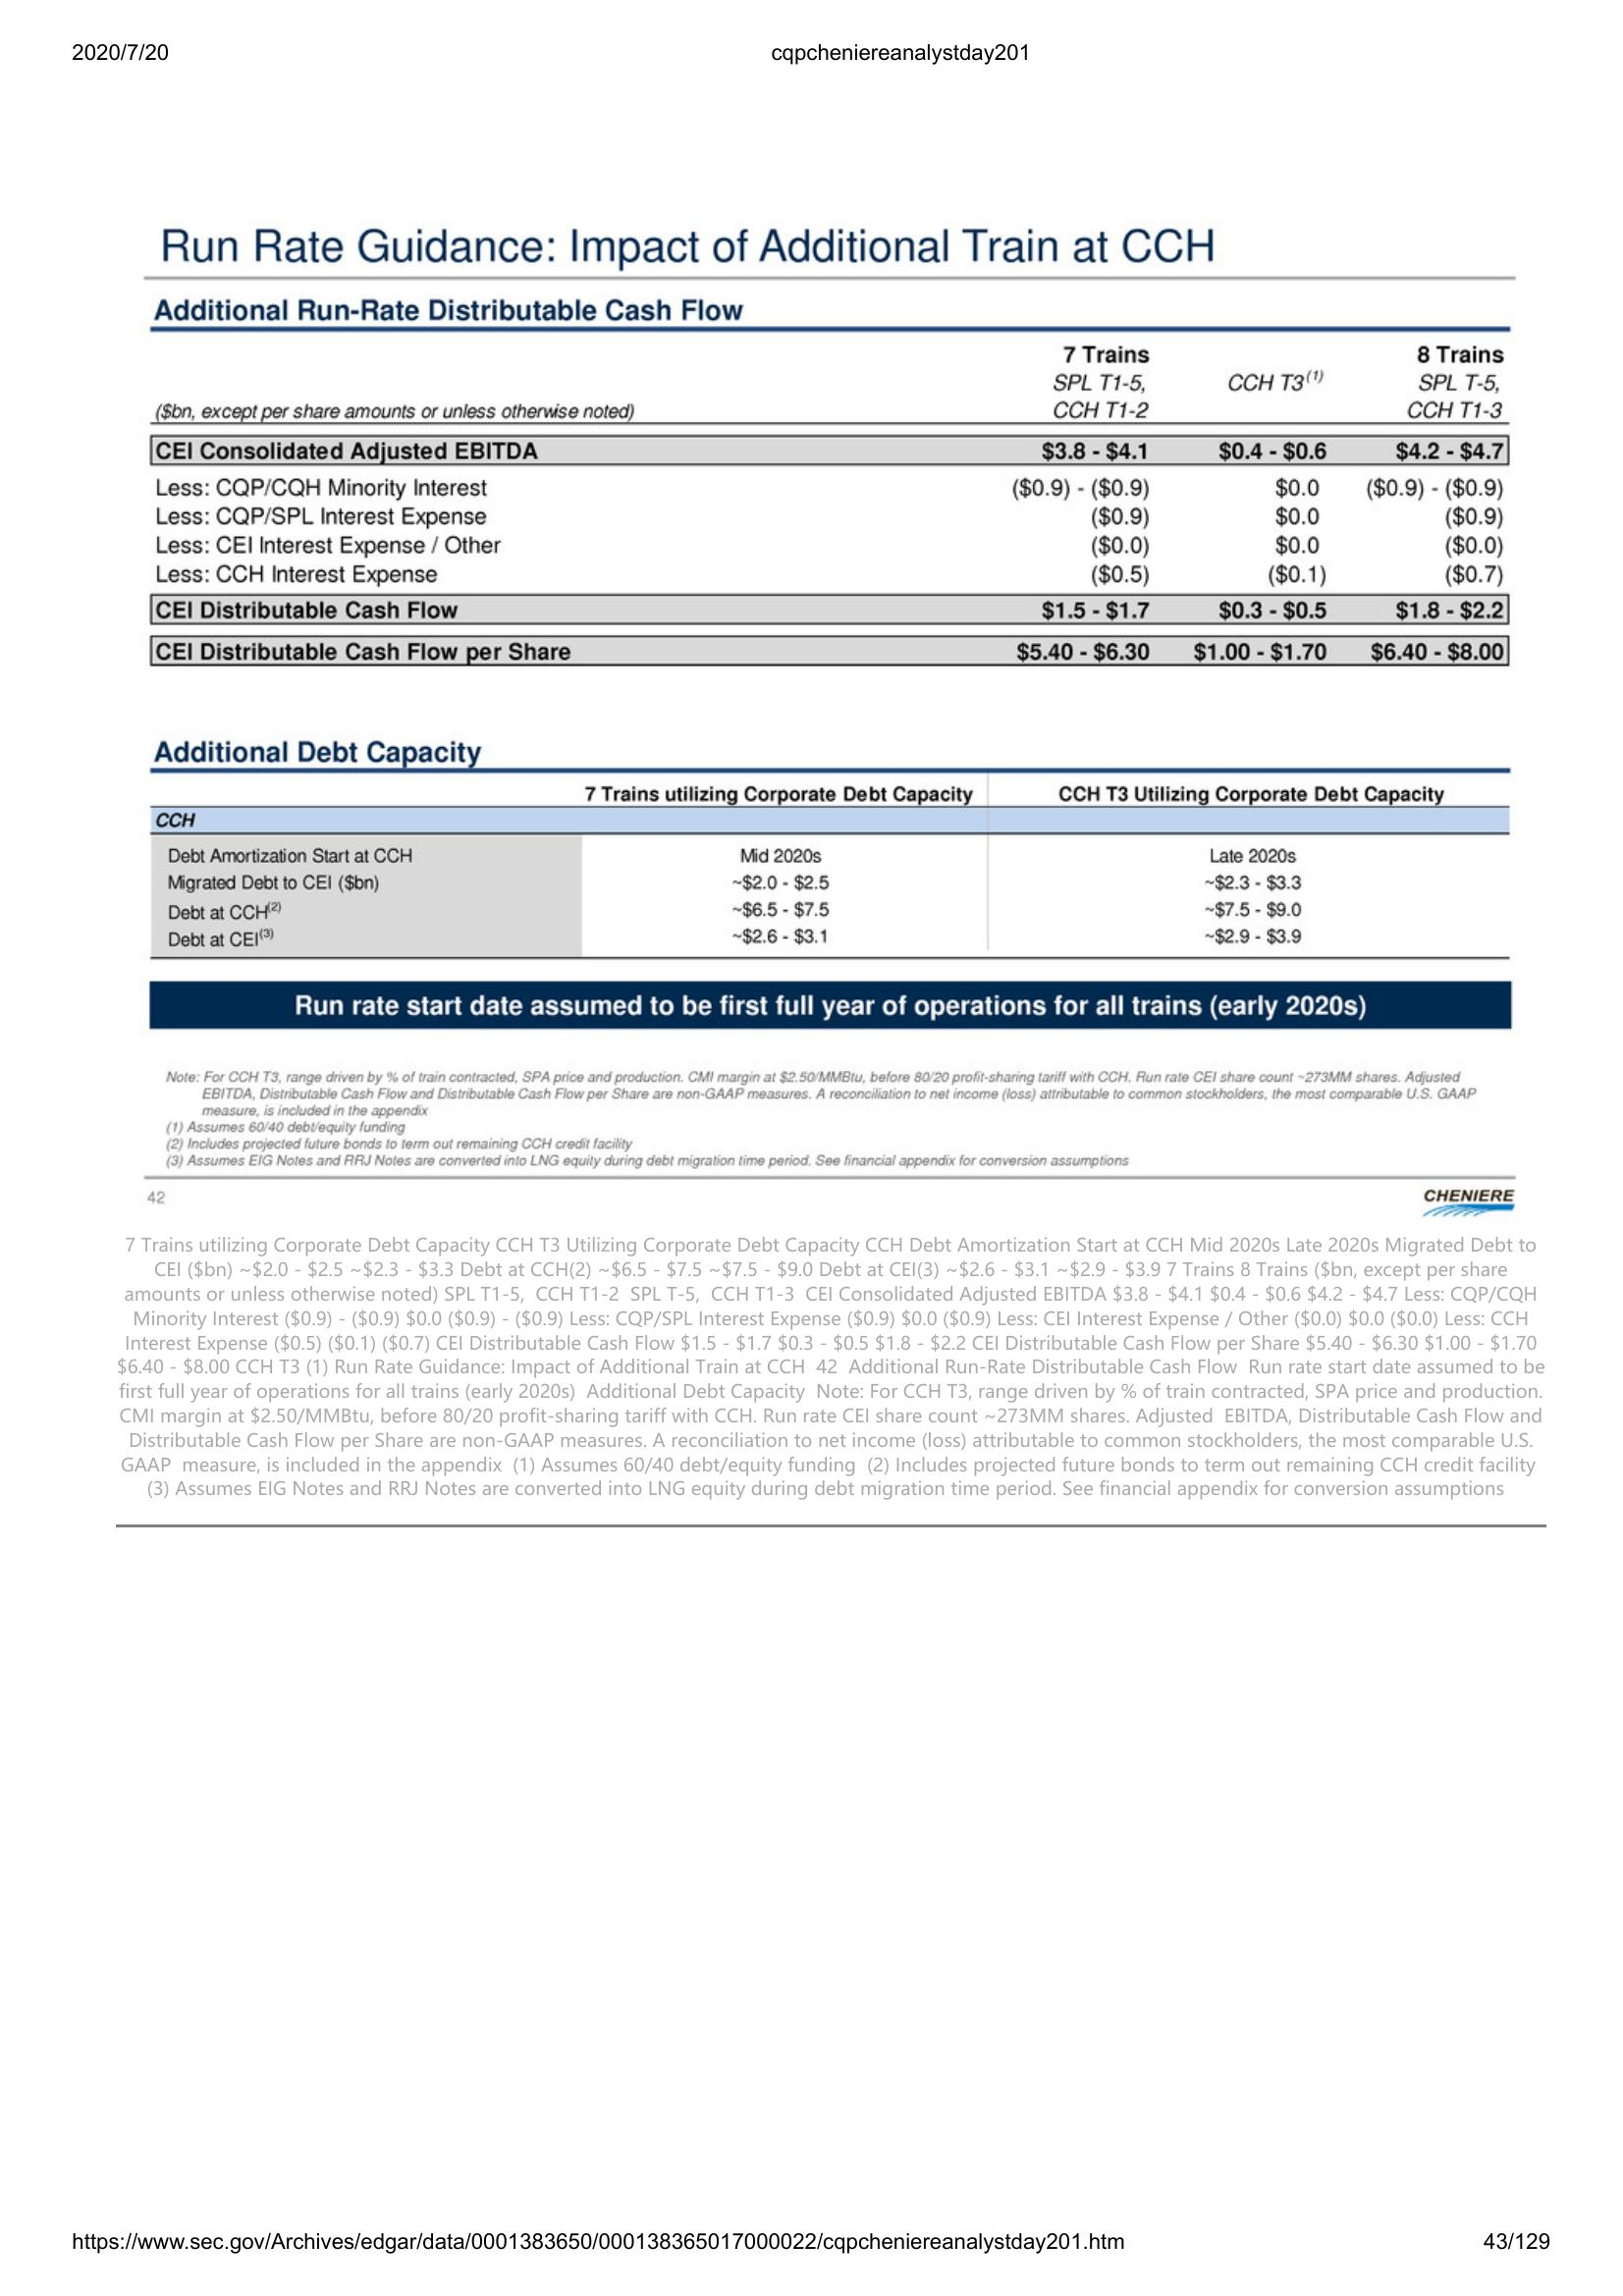table: (144, 335, 1511, 671), (148, 730, 1516, 967)
